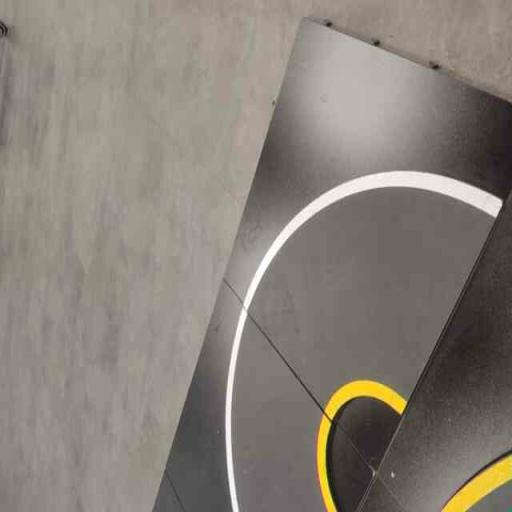left: (241, 116, 505, 424)
